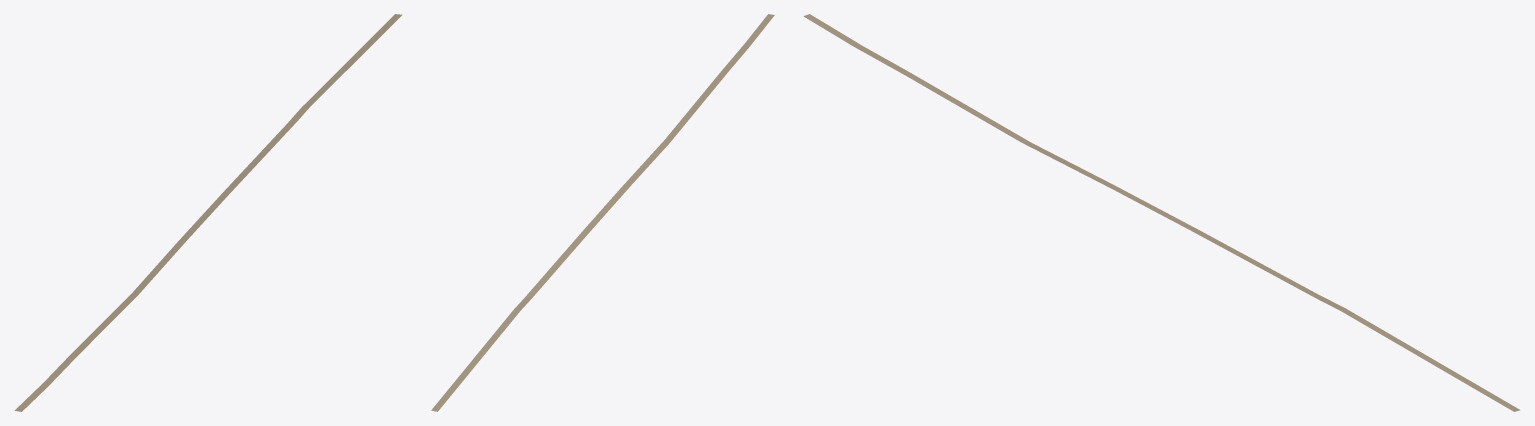
File: farm_-20_-25_track.glb
The picture shows the model from 3 angles, left to right: view 1: azimuth 30°, elevation 25°; view 2: azimuth 210°, elevation 25°; view 3: azimuth 270°, elevation 25°; orthographic projection. The views are drawn at different scales.
Parts seen in each view (by area): view 1: geometry_0; view 2: geometry_0; view 3: geometry_0.
Boxes of the visible parts, x1,y1,x2,y2 form: geometry_0: (14,14,402,411); geometry_0: (431,14,774,411); geometry_0: (803,14,1520,411).
Bounding box in the file's own units: 341 × 11.6 × 278.
